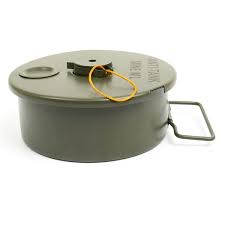car: (8, 40, 223, 192)
